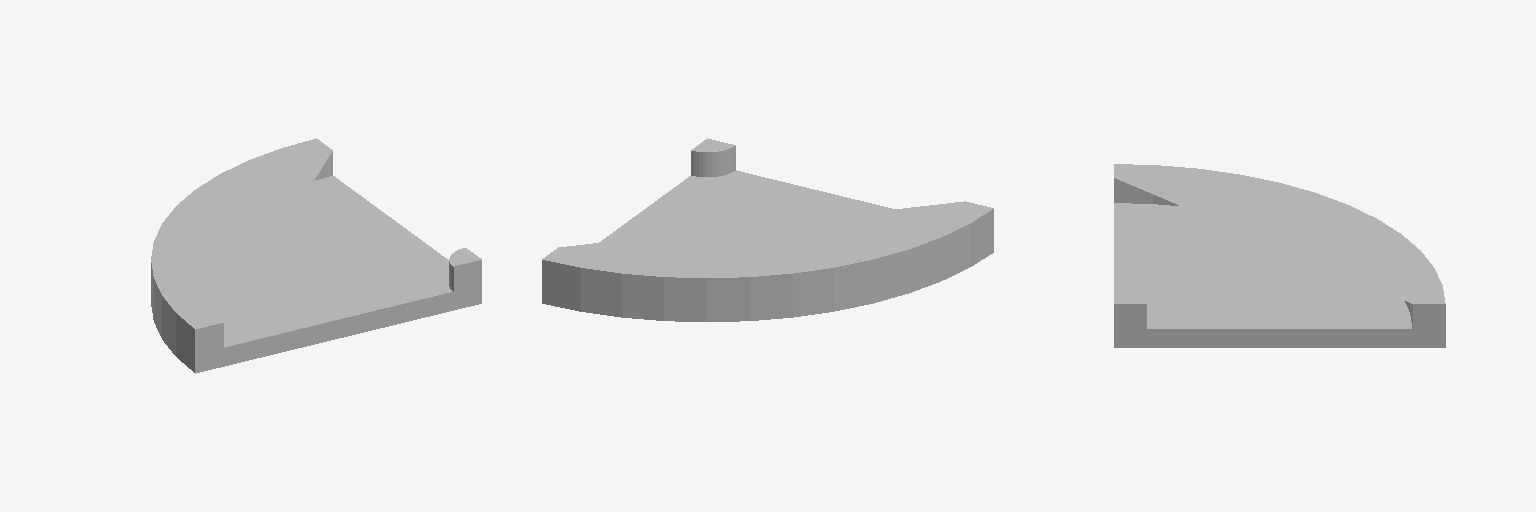
The model's file is Round_corner_1_01.obj.
3 renders of one model, left to right at view 1: azimuth 30°, elevation 25°; view 2: azimuth 150°, elevation 25°; view 3: azimuth 270°, elevation 25°, orthographic.
Parts seen in each view (by area): view 1: Mesh1 Round_corner_1 Model; view 2: Mesh1 Round_corner_1 Model; view 3: Mesh1 Round_corner_1 Model.
Part boxes in pixels (left/top/right/bottom): Mesh1 Round_corner_1 Model: left=151, top=138, right=481, bottom=373; Mesh1 Round_corner_1 Model: left=542, top=138, right=993, bottom=321; Mesh1 Round_corner_1 Model: left=1114, top=164, right=1445, bottom=347.
Bounding box in the file's own units: 3 × 0.44 × 3.